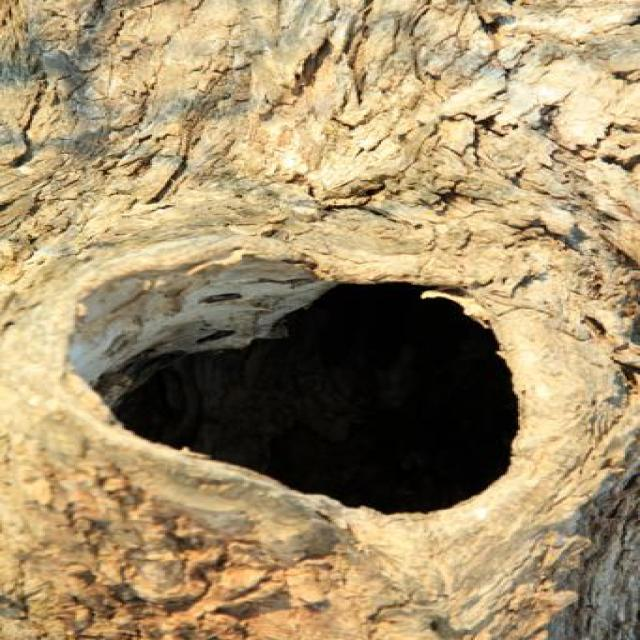hole: (64, 252, 528, 511)
